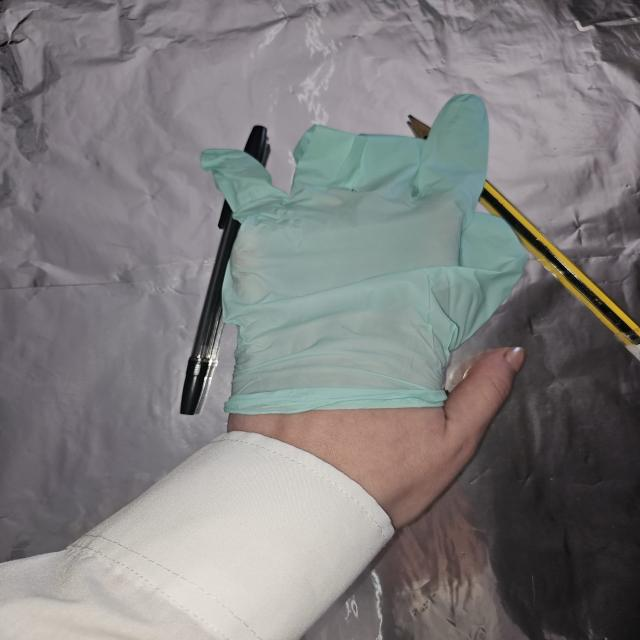glove_partial: (198, 92, 529, 526)
